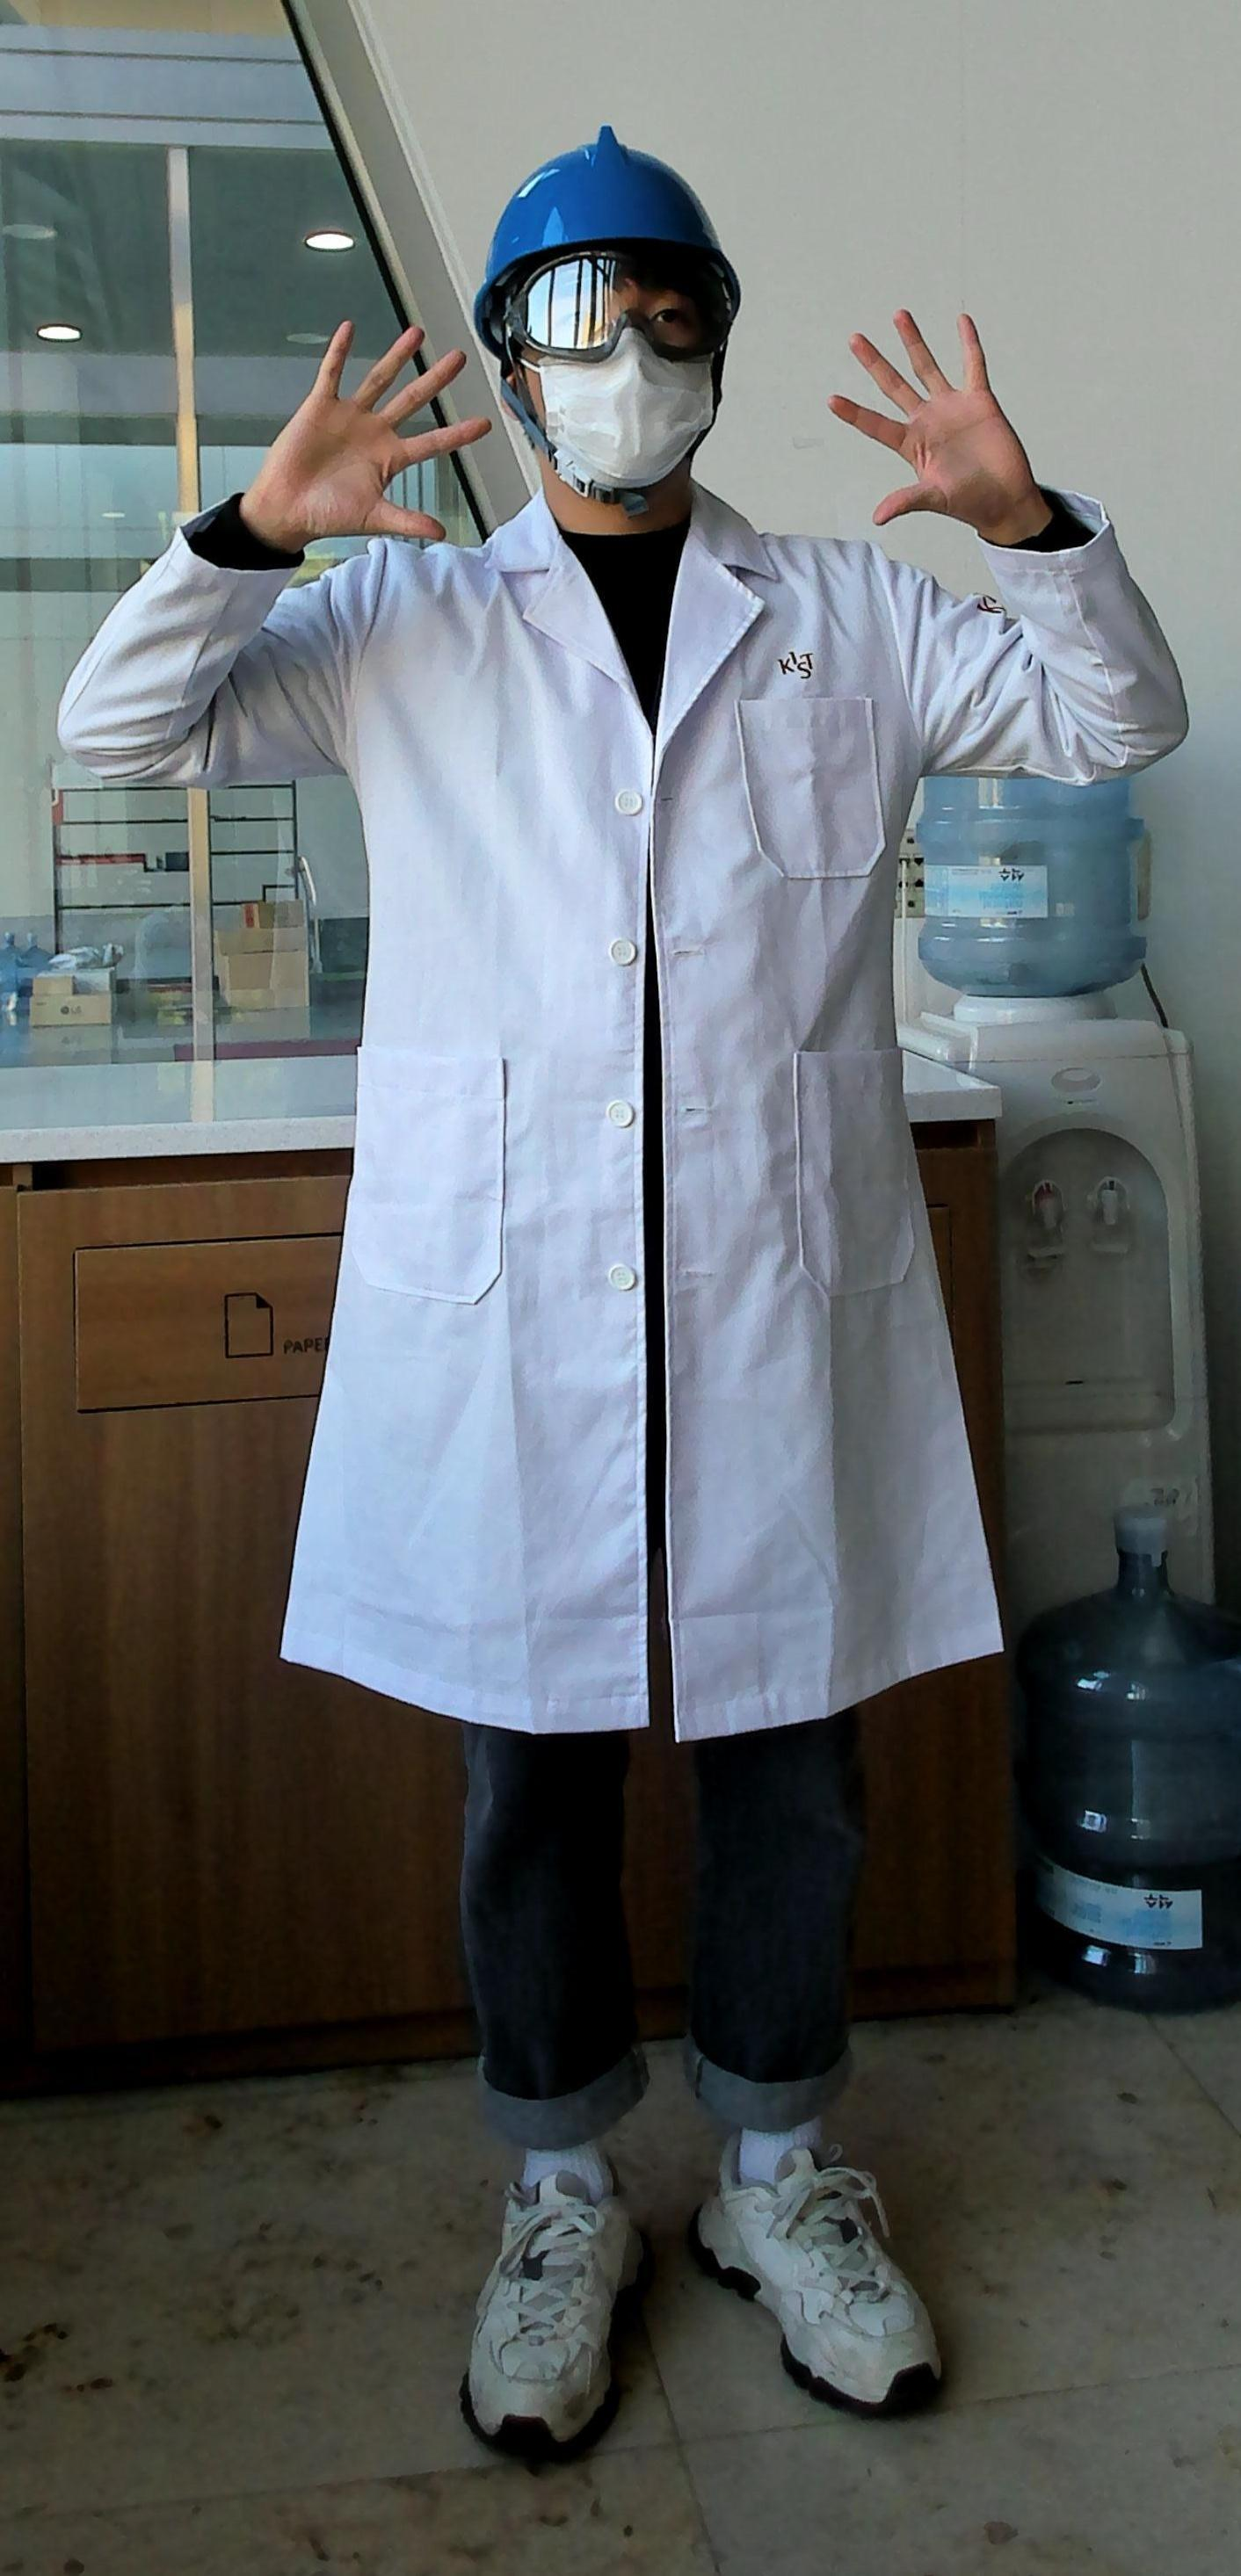lab_coat: (304, 567, 1022, 1667)
